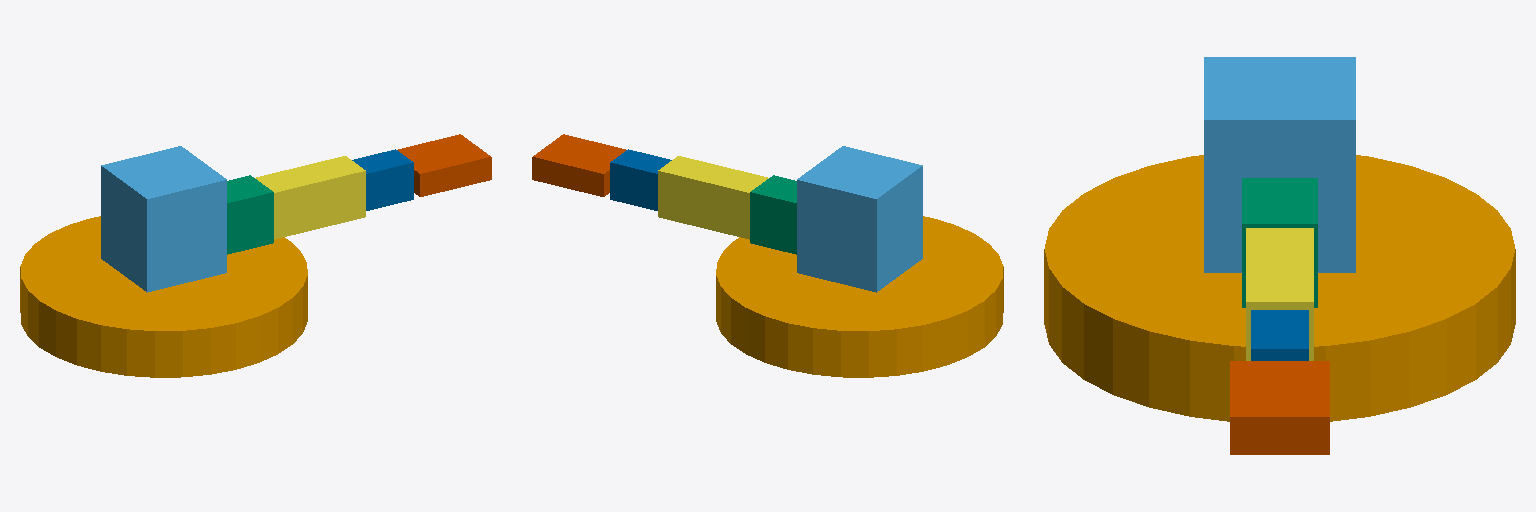
URDF robot description (roarm_m1):
<?xml version="1.0"?>
<robot name="roarm_m1">
  <link name="base_link">
    <inertial>
      <origin xyz="0 0 0.02" rpy="0 0 0"/>
      <mass value="0.95"/>
      <inertia ixx="0.012" ixy="0" ixz="0" iyy="0.012" iyz="0" izz="0.018"/>
    </inertial>
    <visual>
      <origin xyz="0 0 0.025" rpy="0 0 0"/>
      <geometry>
        <cylinder radius="0.14" length="0.05"/>
      </geometry>
    </visual>
  </link>

  <link name="shoulder_link">
    <visual>
      <origin xyz="0 0 0.05" rpy="0 0 0"/>
      <geometry>
        <box size="0.09 0.09 0.10"/>
      </geometry>
    </visual>
  </link>
  <link name="upper_arm_link">
    <visual>
      <origin xyz="0.055 0 0" rpy="0 0 0"/>
      <geometry>
        <box size="0.11 0.045 0.055"/>
      </geometry>
    </visual>
  </link>
  <link name="forearm_link">
    <visual>
      <origin xyz="0.0525 0 0" rpy="0 0 0"/>
      <geometry>
        <box size="0.105 0.04 0.05"/>
      </geometry>
    </visual>
  </link>
  <link name="wrist_link">
    <visual>
      <origin xyz="0.0275 0 0" rpy="0 0 0"/>
      <geometry>
        <box size="0.055 0.035 0.04"/>
      </geometry>
    </visual>
  </link>
  <link name="tool_link">
    <visual>
      <origin xyz="0.04 0 0" rpy="0 0 0"/>
      <geometry>
        <box size="0.08 0.06 0.025"/>
      </geometry>
    </visual>
  </link>

  <joint name="joint_1" type="revolute">
    <parent link="base_link"/>
    <child link="shoulder_link"/>
    <origin xyz="0 0 0.055" rpy="0 0 0"/>
    <axis xyz="0 0 1"/>
    <limit lower="-0.261799" upper="0.261799" effort="1.0" velocity="0.2"/>
  </joint>

  <joint name="joint_2" type="revolute">
    <parent link="shoulder_link"/>
    <child link="upper_arm_link"/>
    <origin xyz="0 0 0.035" rpy="0 0 0"/>
    <axis xyz="0 1 0"/>
    <limit lower="-0.261799" upper="0.261799" effort="1.0" velocity="0.2"/>
  </joint>

  <joint name="joint_3" type="revolute">
    <parent link="upper_arm_link"/>
    <child link="forearm_link"/>
    <origin xyz="0.11 0 0" rpy="0 0 0"/>
    <axis xyz="0 1 0"/>
    <limit lower="-0.261799" upper="0.261799" effort="1.0" velocity="0.2"/>
  </joint>

  <joint name="joint_4" type="revolute">
    <parent link="forearm_link"/>
    <child link="wrist_link"/>
    <origin xyz="0.105 0 0" rpy="0 0 0"/>
    <axis xyz="0 1 0"/>
    <limit lower="-0.261799" upper="0.261799" effort="1.0" velocity="0.2"/>
  </joint>

  <joint name="joint_5" type="revolute">
    <parent link="wrist_link"/>
    <child link="tool_link"/>
    <origin xyz="0.055 0 0" rpy="0 0 0"/>
    <axis xyz="1 0 0"/>
    <limit lower="-0.261799" upper="0.261799" effort="1.0" velocity="0.2"/>
  </joint>
</robot>

--- What the picture shows (computed from the rendered views, not written in the file) ---
The picture shows the robot from 3 angles, left to right: view 1: azimuth 30°, elevation 25°; view 2: azimuth 150°, elevation 25°; view 3: azimuth 270°, elevation 25°; orthographic projection.
Model roarm_m1 with 6 links and 5 joints (5 revolute), rooted at base_link, posed every joint at zero.
Links seen in each view (by area): view 1: base_link, shoulder_link, forearm_link, tool_link, upper_arm_link, wrist_link; view 2: base_link, shoulder_link, forearm_link, tool_link, upper_arm_link, wrist_link; view 3: base_link, shoulder_link, tool_link, forearm_link, upper_arm_link, wrist_link.
Link boxes in pixels (x1=…): base_link: x1=20, y1=216, x2=307, y2=377; shoulder_link: x1=101, y1=146, x2=226, y2=292; forearm_link: x1=255, y1=156, x2=365, y2=239; tool_link: x1=398, y1=134, x2=491, y2=196; upper_arm_link: x1=227, y1=175, x2=273, y2=254; wrist_link: x1=352, y1=149, x2=413, y2=210; base_link: x1=716, y1=216, x2=1003, y2=377; shoulder_link: x1=797, y1=146, x2=922, y2=292; forearm_link: x1=658, y1=156, x2=768, y2=239; tool_link: x1=532, y1=134, x2=625, y2=196; upper_arm_link: x1=750, y1=175, x2=796, y2=254; wrist_link: x1=610, y1=149, x2=671, y2=210; base_link: x1=1044, y1=155, x2=1515, y2=421; shoulder_link: x1=1204, y1=57, x2=1355, y2=272; tool_link: x1=1230, y1=361, x2=1329, y2=454; forearm_link: x1=1246, y1=228, x2=1313, y2=360; upper_arm_link: x1=1242, y1=178, x2=1317, y2=307; wrist_link: x1=1251, y1=310, x2=1308, y2=360.
Size in the robot's own frame: 0.49 by 0.28 by 0.155 metres.
Geometry: primitives only (box / cylinder / sphere), no mesh files.
